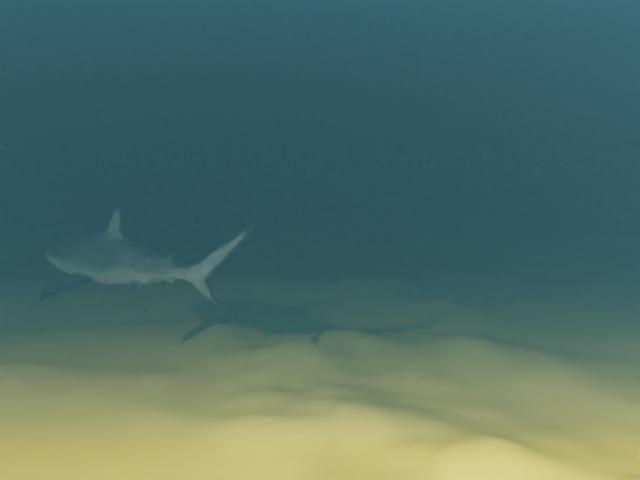Carribean Shark.001: (39, 204, 254, 308)
